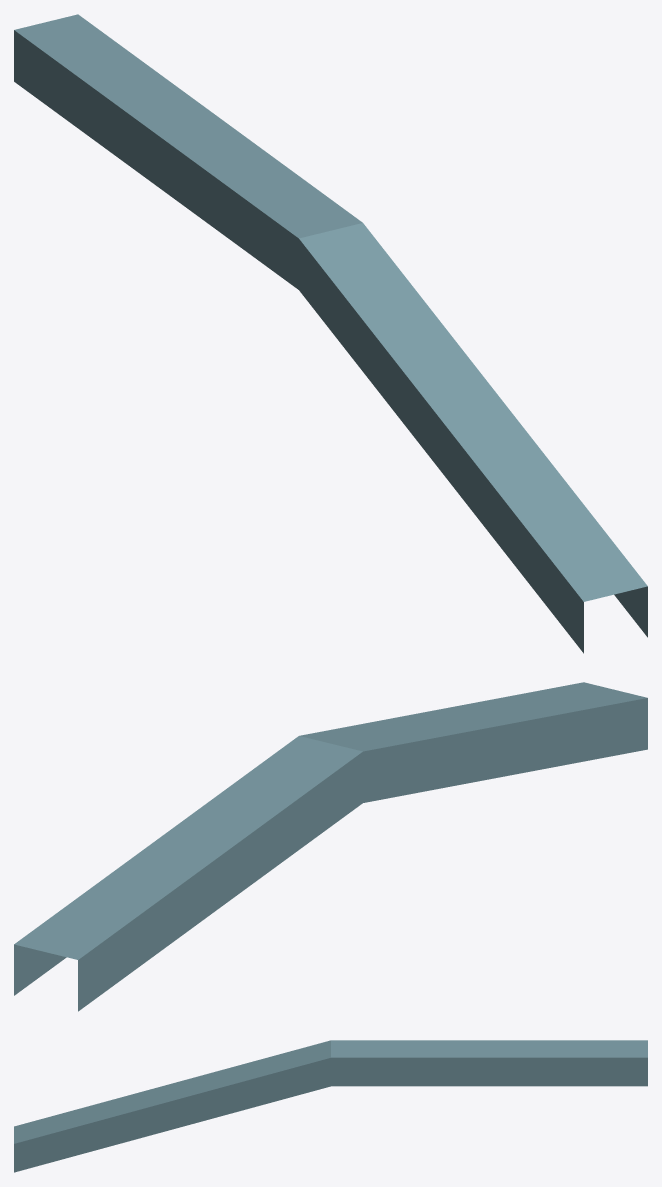
Rendered from Box_kink.fbx.
3 renders of one model, top to bottom at view 1: azimuth 30°, elevation 25°; view 2: azimuth 150°, elevation 25°; view 3: azimuth 270°, elevation 25°, orthographic. The views are drawn at different scales.
Visible parts, largest first — view 1: BoxRidingSurface; view 2: BoxRidingSurface; view 3: BoxRidingSurface.
Boxes of the visible parts, x1,y1,x2,y2 form: BoxRidingSurface: [14, 14, 647, 653]; BoxRidingSurface: [14, 682, 647, 1011]; BoxRidingSurface: [14, 1040, 647, 1172].
Bounding box in the file's own units: 0.65 × 2 × 10.
